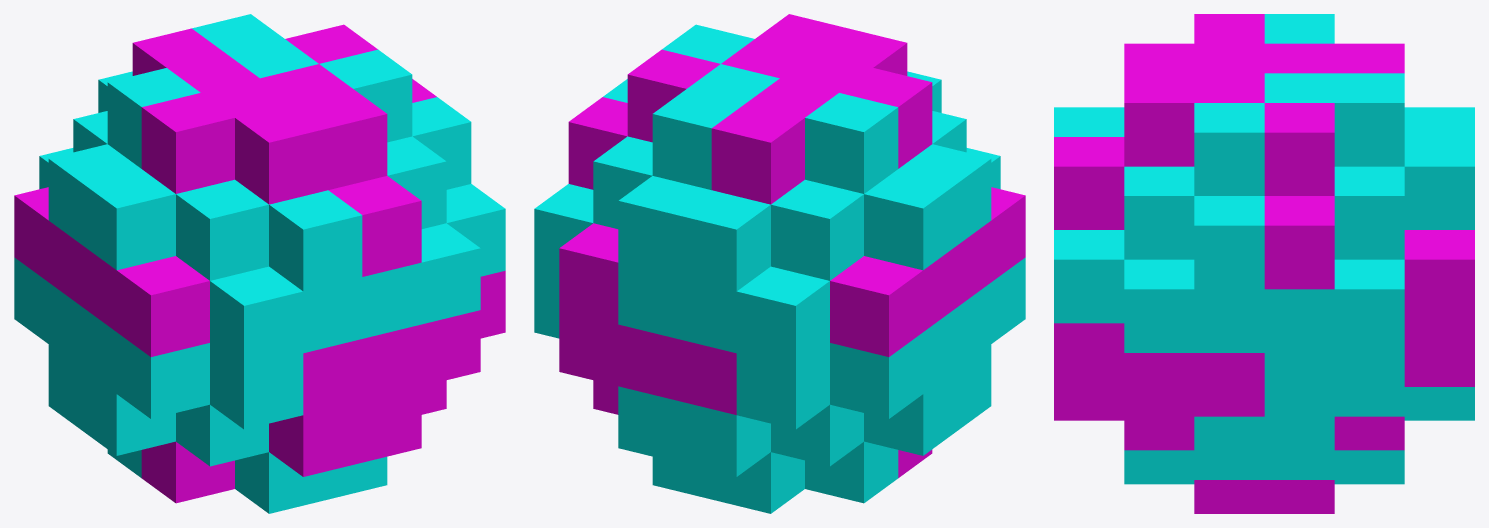
The model's file is planetas-6-azulrosa 1.obj.
3 renders of one model, left to right at view 1: azimuth 30°, elevation 25°; view 2: azimuth 150°, elevation 25°; view 3: azimuth 270°, elevation 25°, orthographic. The views are drawn at different scales.
Bounding box in the file's own units: 0.6 × 0.6 × 0.6.
1 material, 1 textured.
